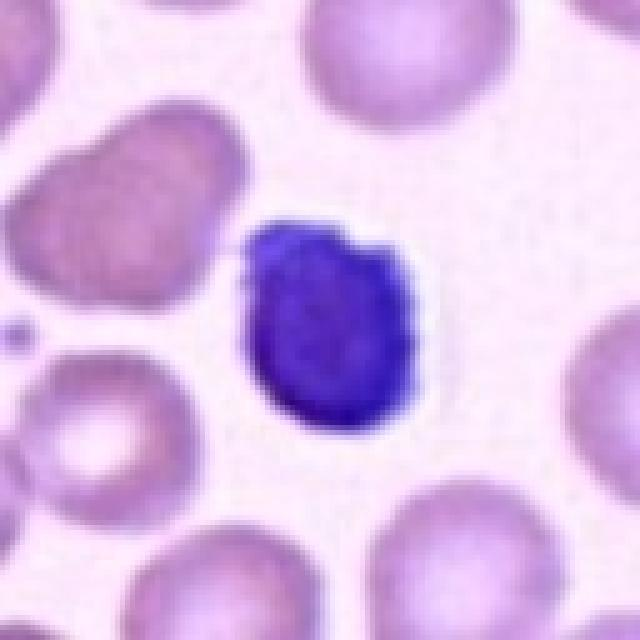lympho: (228, 205, 435, 441)
